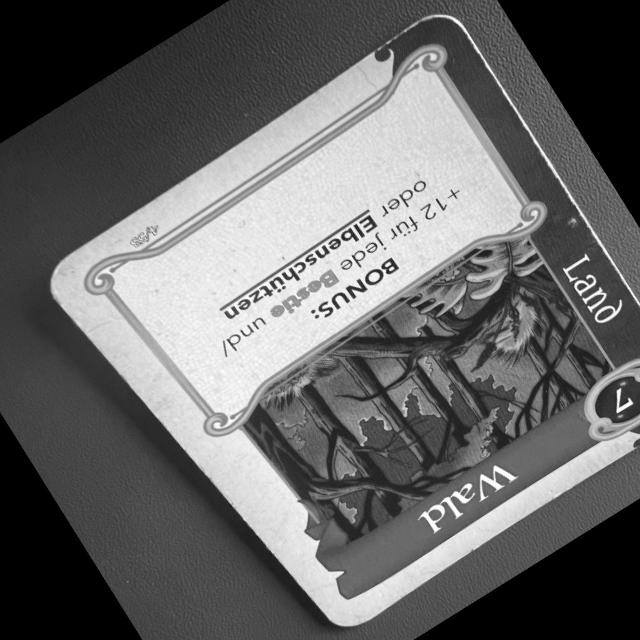Forest: (35, 0, 640, 639)
